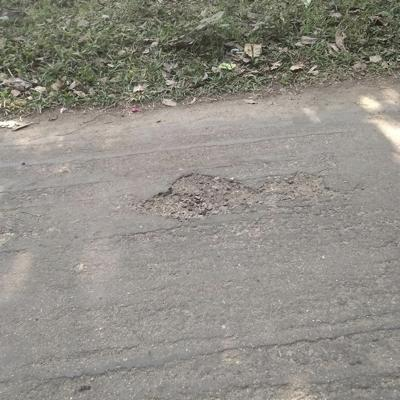Pothole: (120, 149, 337, 235)
